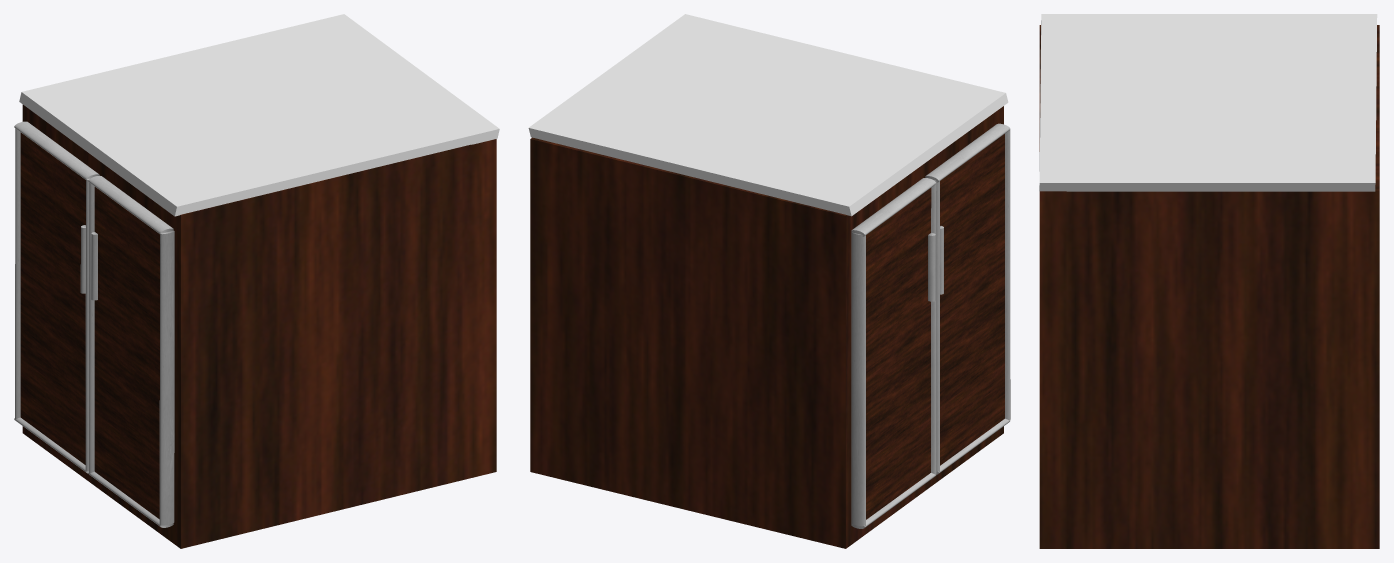
Rendered from Mueble.obj.
3 renders of one model, left to right at view 1: azimuth 30°, elevation 25°; view 2: azimuth 150°, elevation 25°; view 3: azimuth 270°, elevation 25°, orthographic. The views are drawn at different scales.
Parts seen in each view (by area): view 1: polySurface113 pasted__pasted__pCube14, pCube14, pasted__polySurface114, polySurface115; view 2: polySurface113 pasted__pasted__pCube14, pCube14, polySurface115, pasted__polySurface114; view 3: polySurface113 pasted__pasted__pCube14, pCube14.
Part boxes in pixels (x1,y1,x2,y2): polySurface113 pasted__pasted__pCube14: (22, 104, 496, 548); pCube14: (19, 14, 499, 216); pasted__polySurface114: (88, 175, 174, 527); polySurface115: (14, 121, 99, 473); polySurface113 pasted__pasted__pCube14: (530, 106, 1003, 548); pCube14: (528, 14, 1008, 216); polySurface115: (851, 178, 936, 528); pasted__polySurface114: (925, 123, 1010, 474); polySurface113 pasted__pasted__pCube14: (1039, 25, 1379, 548); pCube14: (1039, 14, 1377, 191).
Bounding box in the file's own units: 0.582 × 0.5682 × 0.4759.
Materials: 12 (12 with a texture image).
